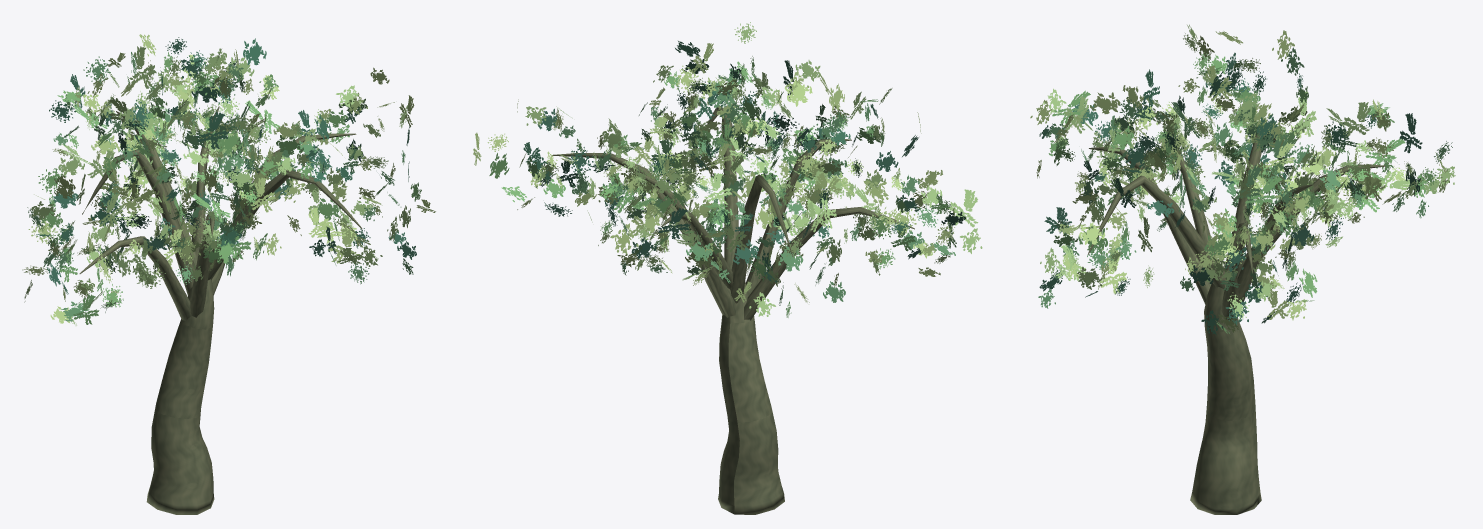
File: Tree_River_01_Sarandi_LOD1.glb
3 renders of one model, left to right at view 1: azimuth 30°, elevation 25°; view 2: azimuth 150°, elevation 25°; view 3: azimuth 270°, elevation 25°, orthographic. The views are drawn at different scales.
Visible parts, largest first — view 1: Tree_River_01_Sarandi_LOD1; view 2: Tree_River_01_Sarandi_LOD1; view 3: Tree_River_01_Sarandi_LOD1.
Part boxes in pixels (x1,y1,x2,y2): Tree_River_01_Sarandi_LOD1: (22, 34, 435, 514); Tree_River_01_Sarandi_LOD1: (473, 22, 982, 514); Tree_River_01_Sarandi_LOD1: (1030, 24, 1455, 514).
Size of the model in its own units: 7.26 by 7.2 by 6.02.
Materials: 2 (2 with a texture image).
